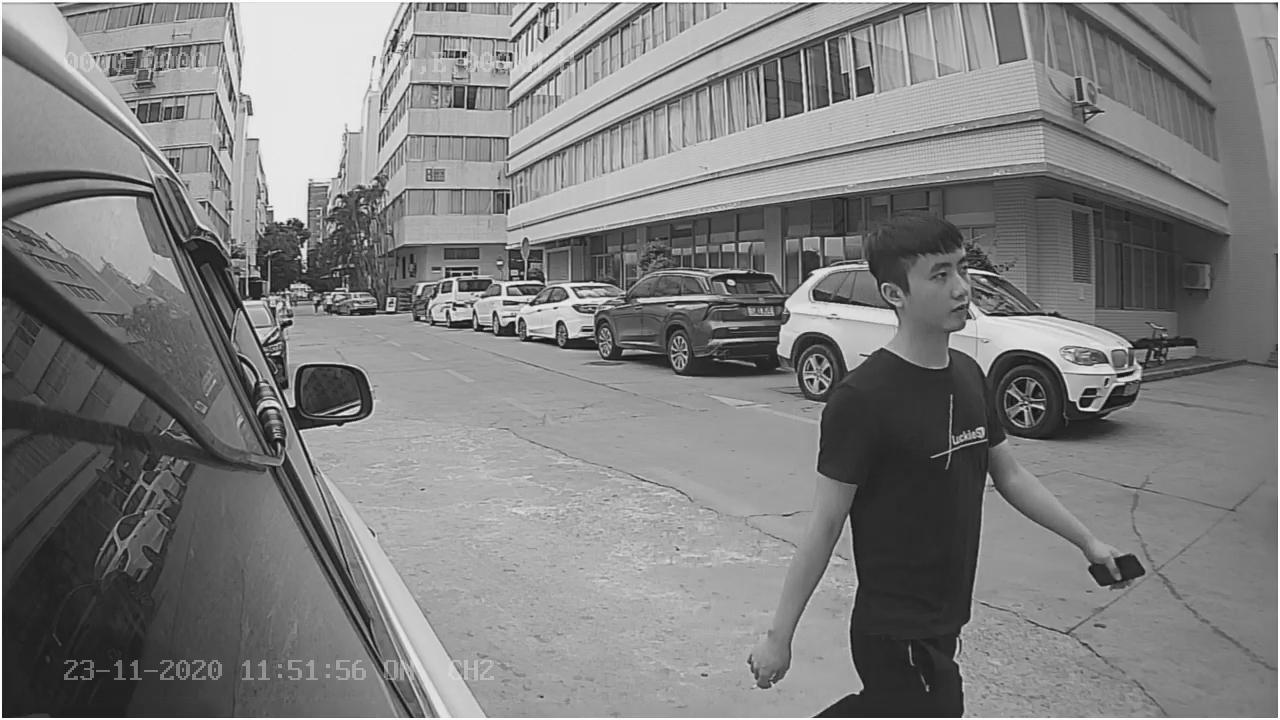person: (809, 216, 1025, 563)
